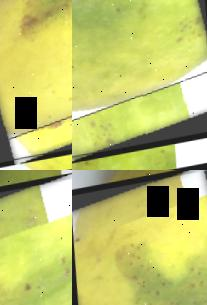PartiallyRipe: (72, 0, 207, 165), (0, 170, 72, 305)
Ripe: (72, 170, 207, 305), (0, 0, 72, 165)
